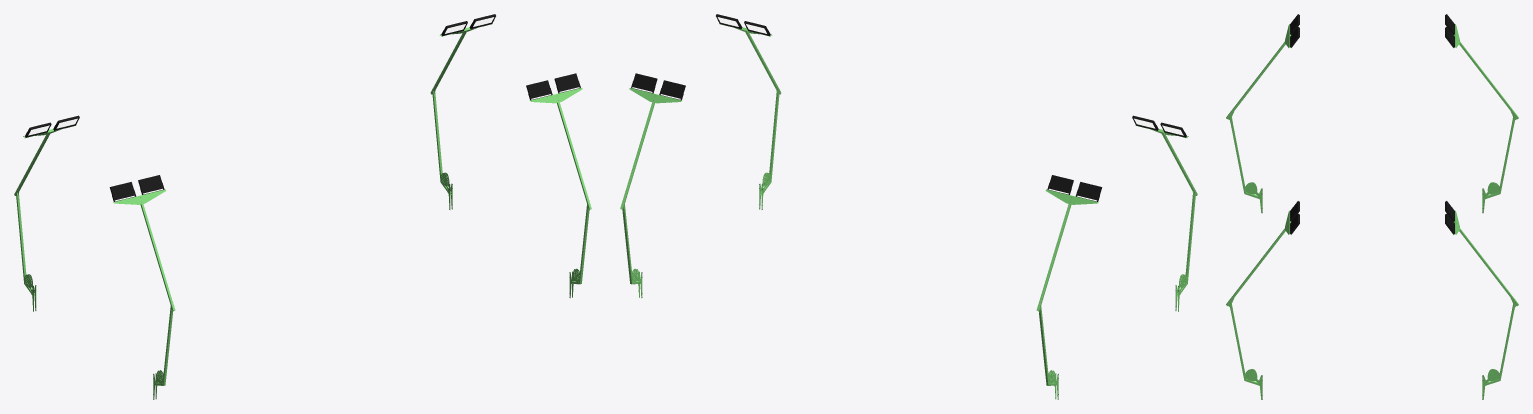
The model's file is solo_5.glb.
3 views of the same model, side by side, from view 1: azimuth 30°, elevation 25°; view 2: azimuth 150°, elevation 25°; view 3: azimuth 270°, elevation 25° (orthographic). The views are drawn at different scales.
Visible parts, largest first — view 1: 5 вариант; view 2: 5 вариант; view 3: 5 вариант.
Part boxes in pixels (left/top/right/bottom): 5 вариант: left=14, top=14, right=591, bottom=399; 5 вариант: left=620, top=14, right=1197, bottom=399; 5 вариант: left=1226, top=14, right=1518, bottom=399.
Bounding box in the file's own units: 13.53 × 5.64 × 7.98.
